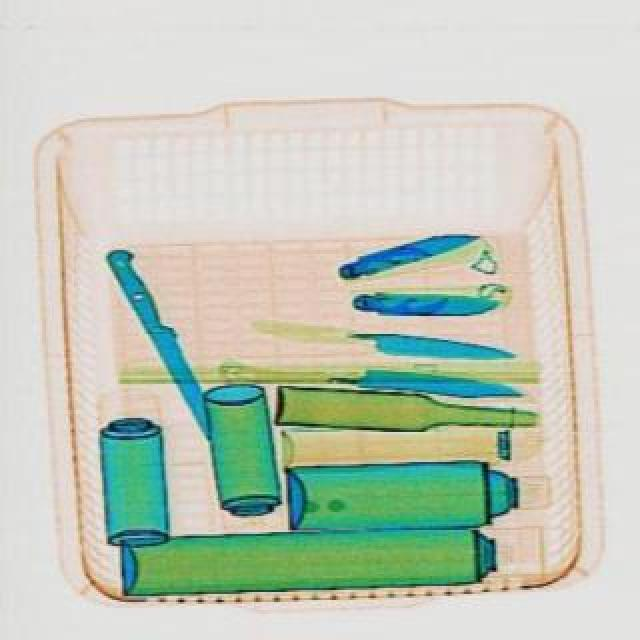knife: (98, 242, 226, 440), (330, 218, 482, 284), (346, 326, 514, 368), (338, 364, 522, 402), (348, 288, 500, 318)
